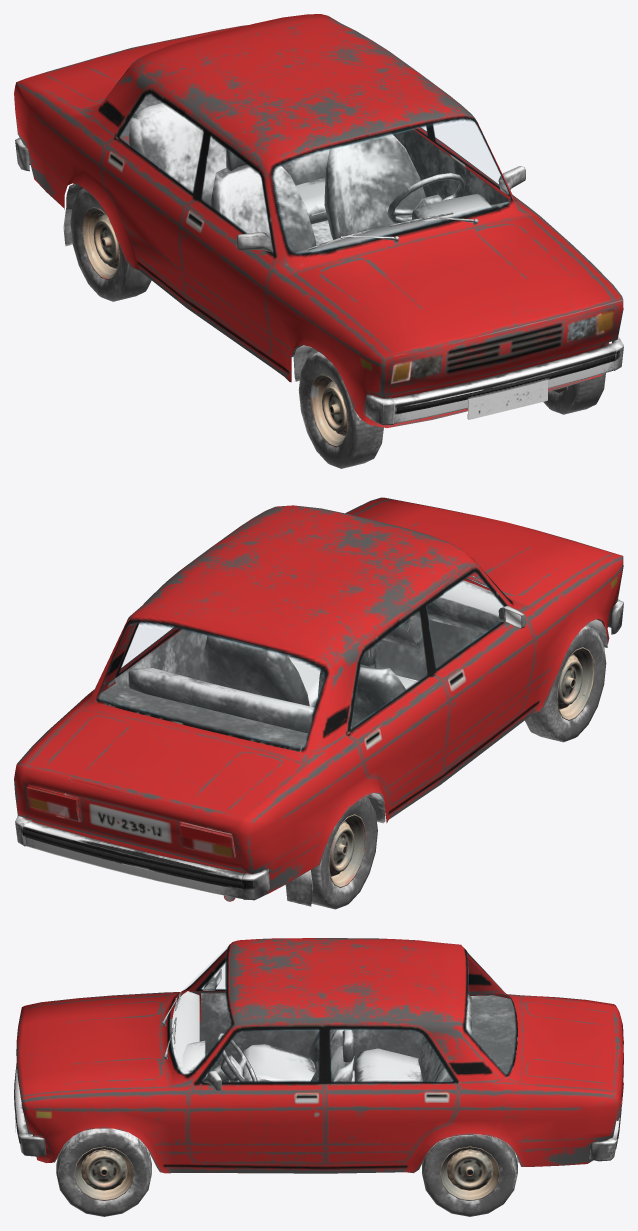
The model's file is v_lada.glb.
3 renders of one model, top to bottom at view 1: azimuth 30°, elevation 25°; view 2: azimuth 150°, elevation 25°; view 3: azimuth 270°, elevation 25°, orthographic. The views are drawn at different scales.
Visible parts, largest first — view 1: lada_riva_sasija_lp, lada_riva_body_lp; view 2: lada_riva_sasija_lp, lada_riva_body_lp; view 3: lada_riva_sasija_lp, lada_riva_body_lp.
Part boxes in pixels (x1,y1,x2,y2): lada_riva_sasija_lp: (14, 14, 623, 447); lada_riva_body_lp: (15, 94, 623, 468); lada_riva_sasija_lp: (14, 497, 623, 901); lada_riva_body_lp: (15, 575, 623, 909); lada_riva_sasija_lp: (16, 938, 623, 1200); lada_riva_body_lp: (14, 968, 621, 1216).
Size of the model in its own units: 177 by 148 by 406.
Materials: 2 (2 with a texture image).
